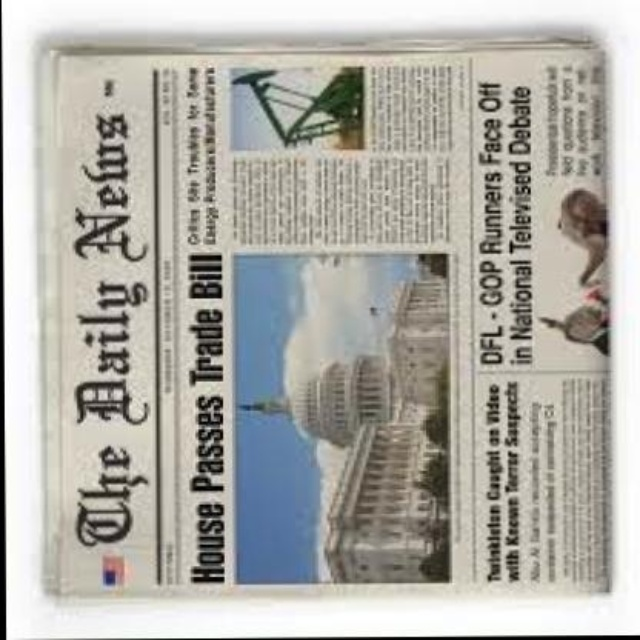trash: (48, 43, 608, 592)
